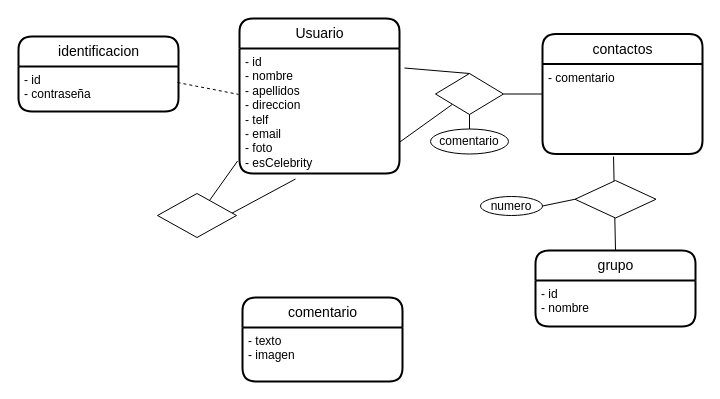
Some shapes in this 720 by 399 pixel diagram are drawn without their labels. Here are the shapes that lost their labels. From the top down, the centre of each, then its label:
At (x=469, y=93): "tiene".
At (x=196, y=215): "bloquea".
At (x=615, y=199): "forman".
